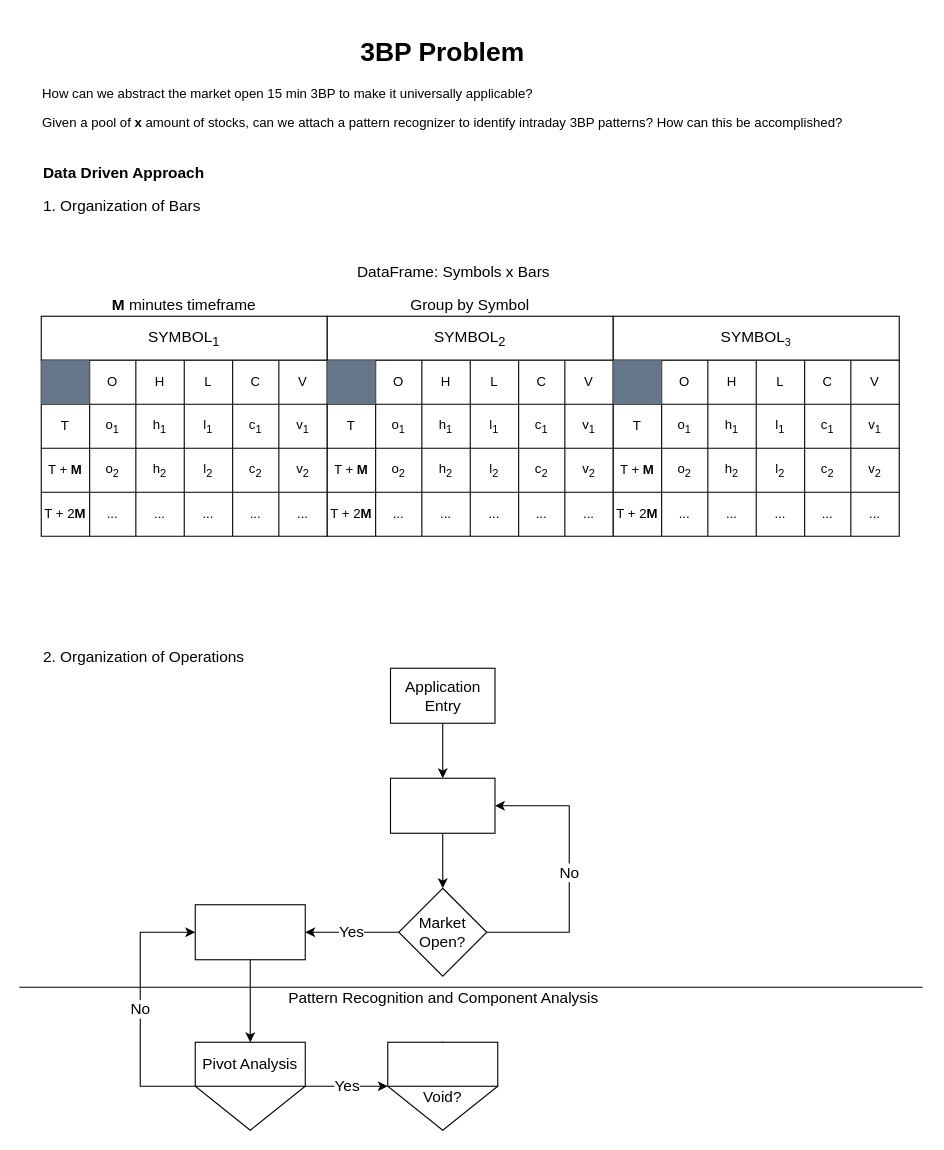
This 944x1150 diagram has some shape labels left out. Each missing label, with the centre of its shape:
"Check Market Status" goes at point 442,805.
"Update Bars" goes at point 249,932.
"Void Space Analysis" goes at point 442,1063.
